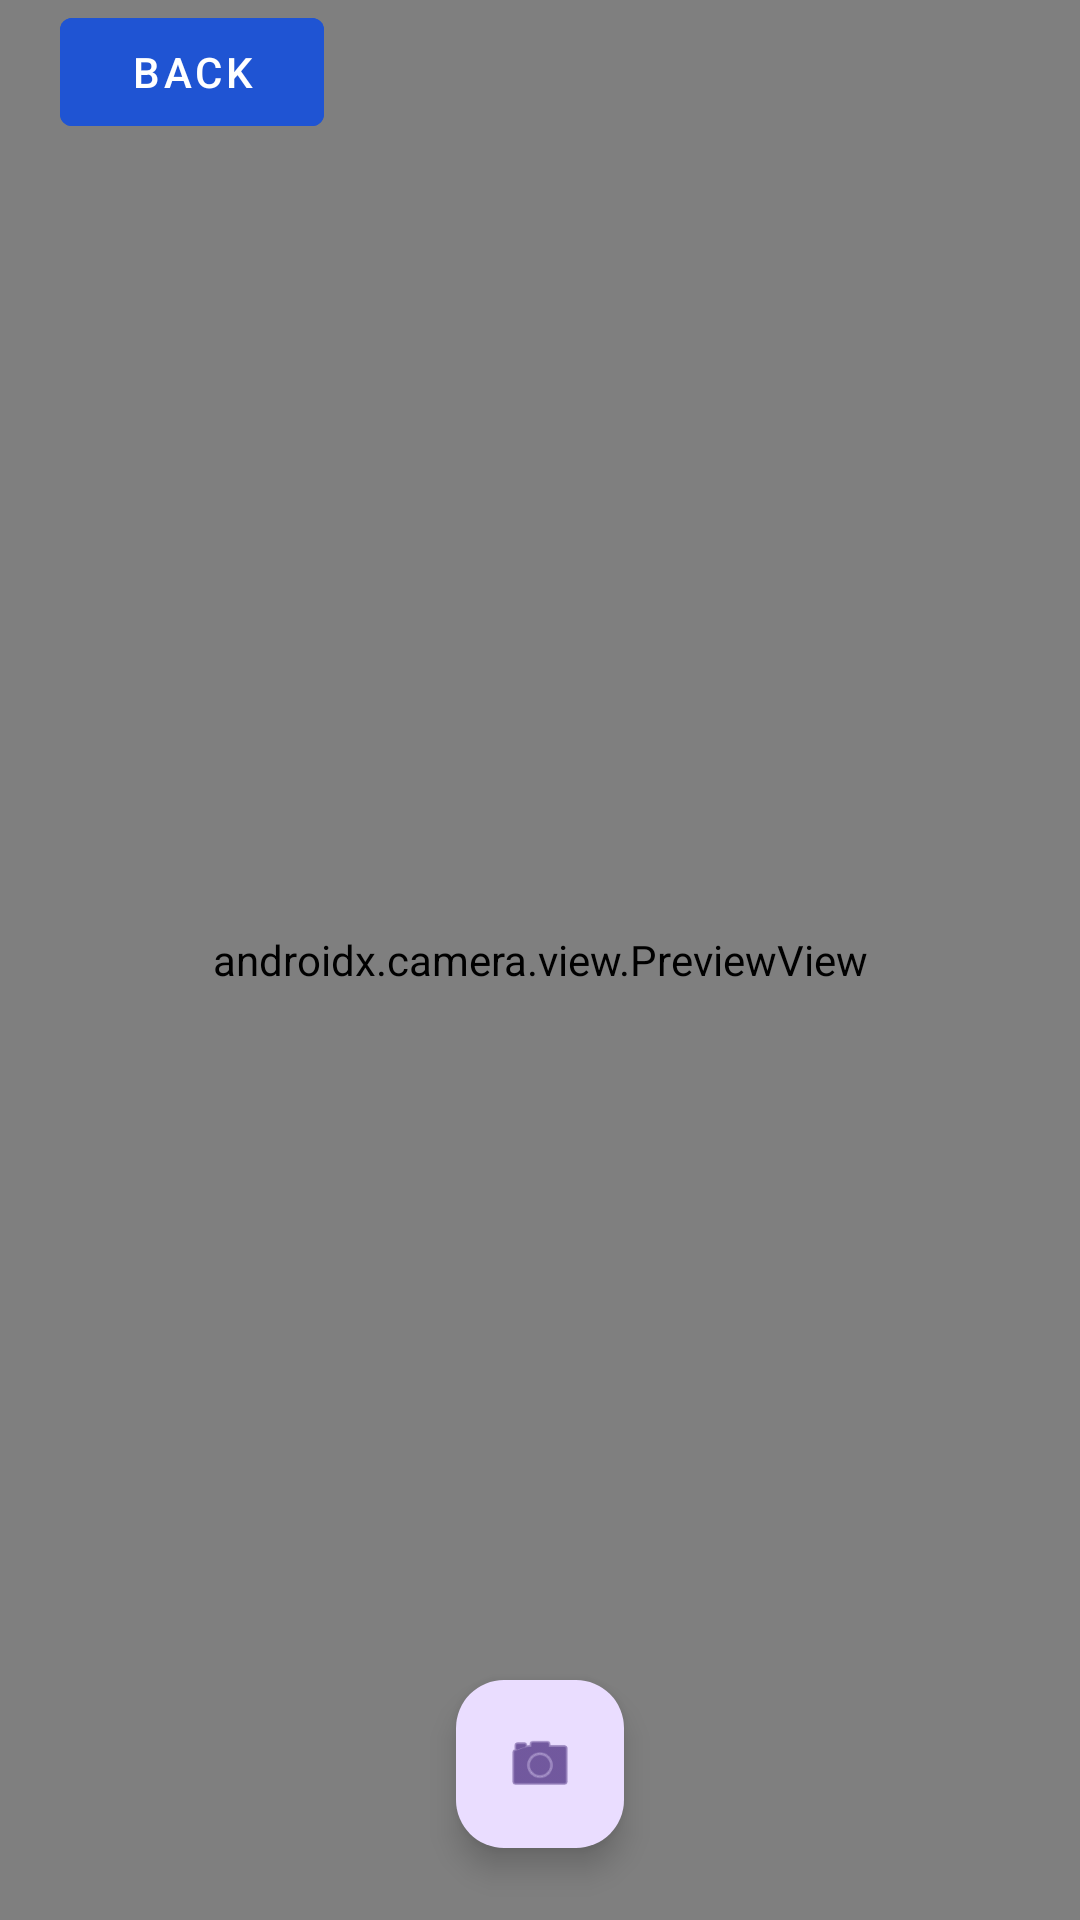

Point at icon controls on the screen. Image size 1080*1920, points as (x,y).
Capture: (540,1764)
